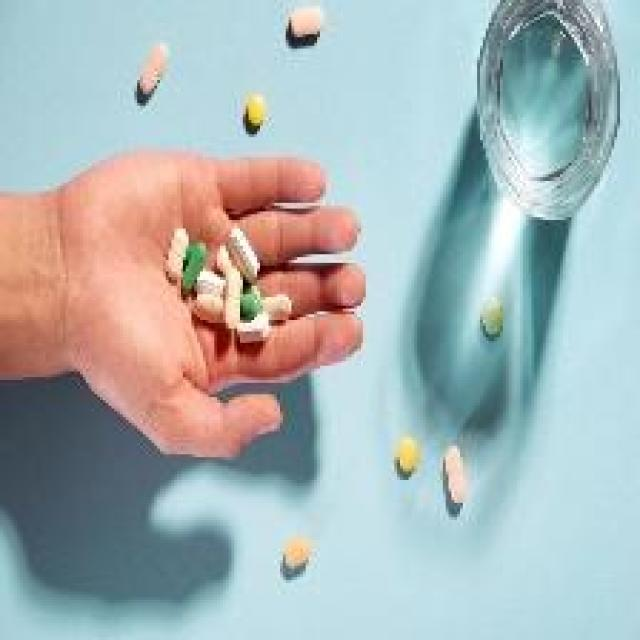Medicine: (154, 201, 292, 350), (114, 25, 186, 116), (476, 300, 548, 346), (278, 6, 341, 56), (437, 444, 475, 516), (228, 93, 284, 139), (284, 533, 324, 586), (390, 426, 421, 484)
